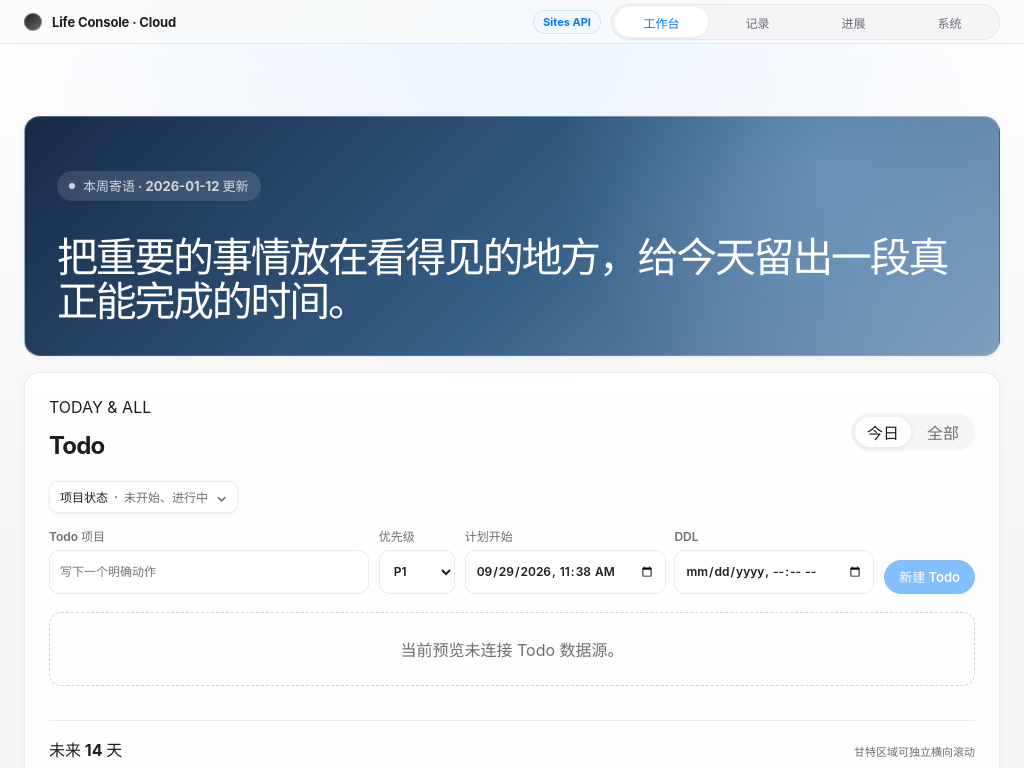
Test: Life Console Sites mode › keeps the retired cloud write tools off the 2.5 progress page
The width and height of the screenshot is (1024, 768).
Click the button "进展".
click(854, 22)  # box [807,7,900,37]
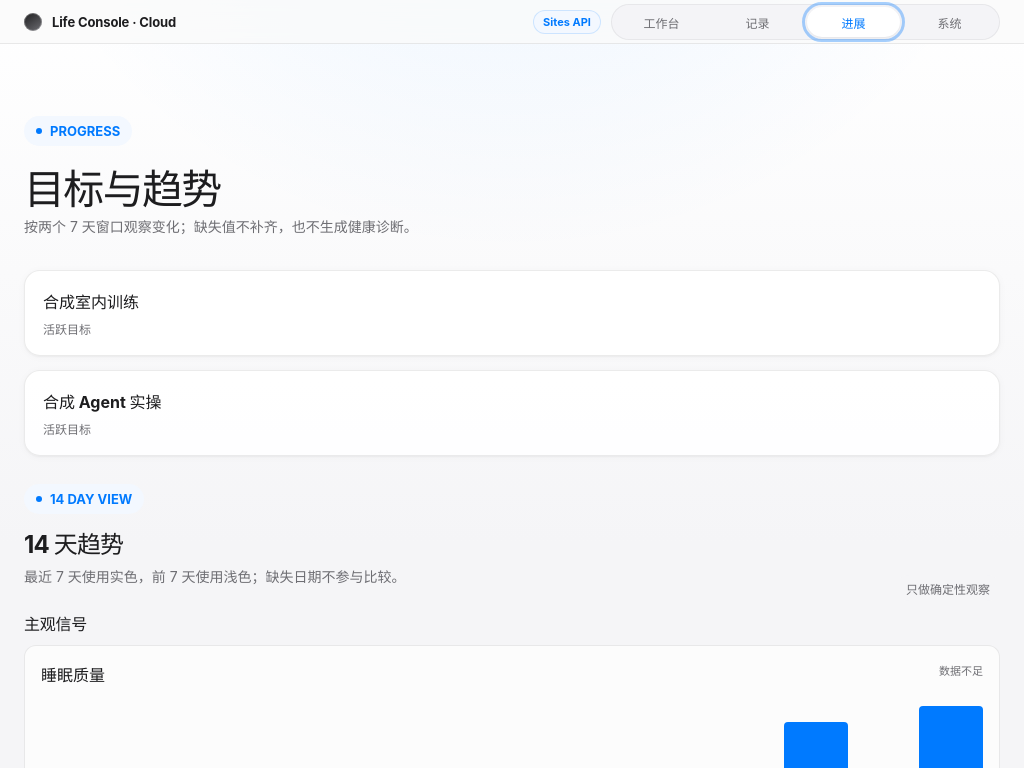
Check: the heading "目标与趋势" is shown, box [24,164,221,214]
